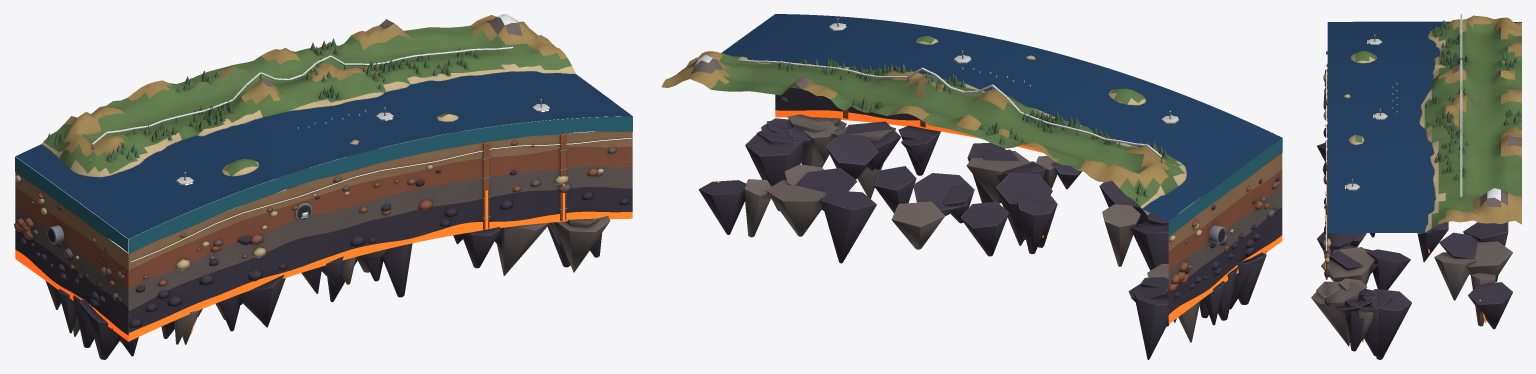
Rendered from earth_slab.glb.
3 views of the same model, side by side, from view 1: azimuth 30°, elevation 25°; view 2: azimuth 150°, elevation 25°; view 3: azimuth 270°, elevation 25° (orthographic). The views are drawn at different scales.
Parts seen in each view (by area): view 1: earth_slab, earth_slab_glow; view 2: earth_slab, earth_slab_glow; view 3: earth_slab, earth_slab_glow.
Part boxes in pixels (left/top/right/bottom): earth_slab: left=14, top=14, right=632, bottom=359; earth_slab_glow: left=15, top=47, right=632, bottom=342; earth_slab: left=661, top=19, right=1282, bottom=359; earth_slab_glow: left=717, top=14, right=1282, bottom=323; earth_slab: left=1311, top=14, right=1521, bottom=359; earth_slab_glow: left=1325, top=14, right=1521, bottom=341.
Size of the model in its own units: 36.59 by 15.19 by 15.19.
7 materials, 1 textured.
